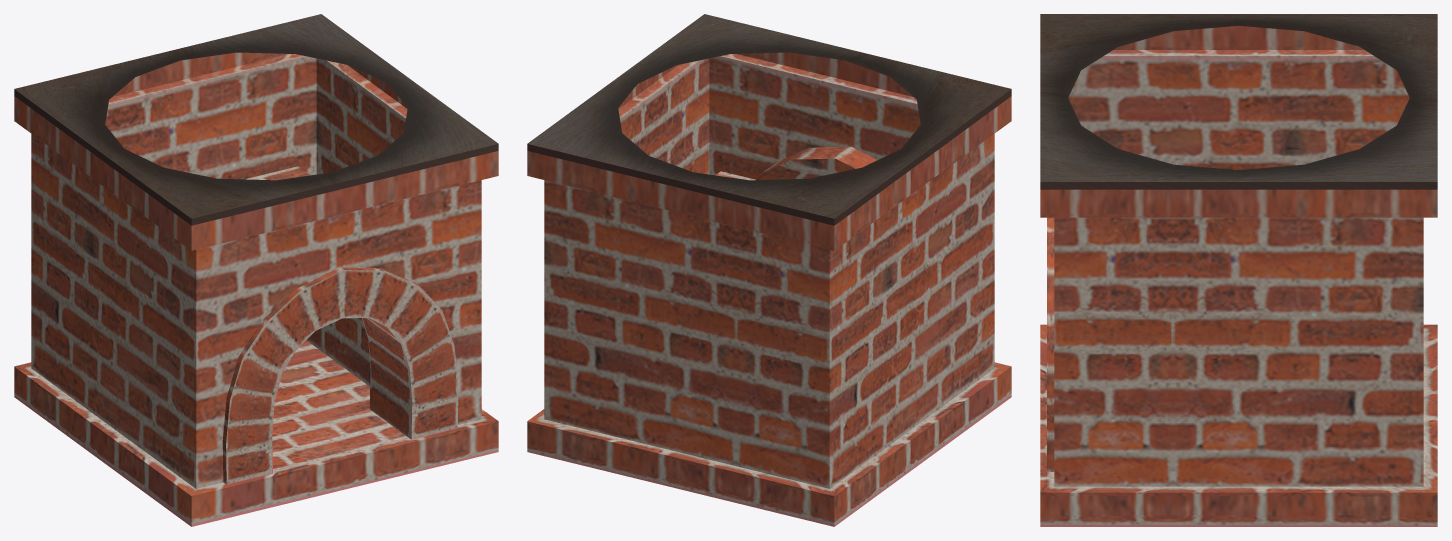
The model's file is Red_stove.fbx.
The picture shows the model from 3 angles, left to right: view 1: azimuth 30°, elevation 25°; view 2: azimuth 150°, elevation 25°; view 3: azimuth 270°, elevation 25°; orthographic projection. The views are drawn at different scales.
Parts seen in each view (by area): view 1: Red_stove; view 2: Red_stove; view 3: Red_stove.
Boxes of the visible parts, x1,y1,x2,y2 form: Red_stove: (14, 14, 498, 526); Red_stove: (527, 14, 1011, 526); Red_stove: (1040, 14, 1437, 526).
Size of the model in its own units: 8.05 by 8.05 by 7.72.
